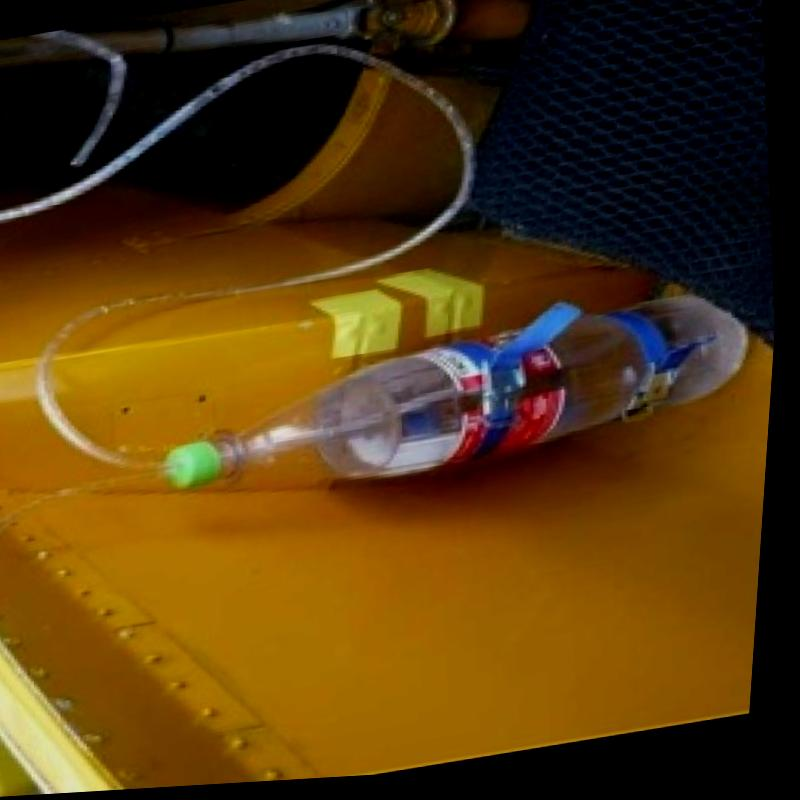botella: (159, 292, 772, 522)
